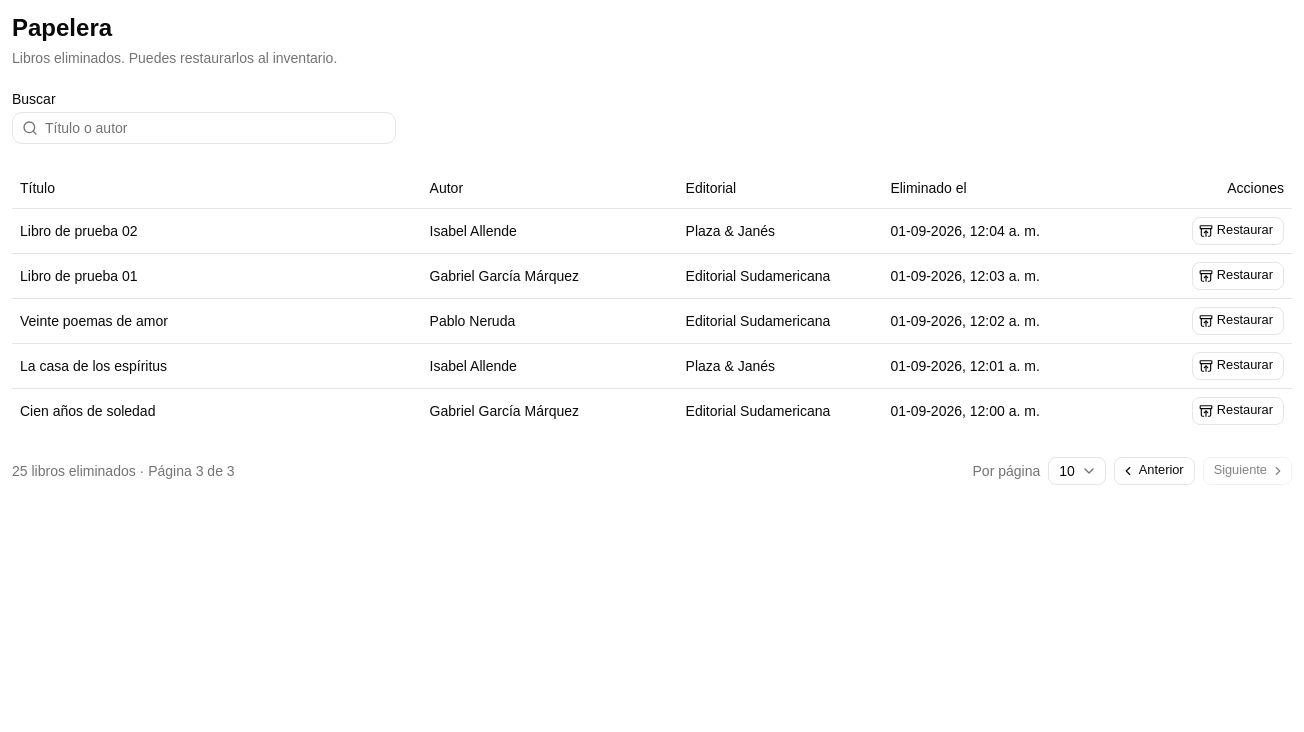
Test case: TrashPage › al restaurar el último libro de la última página vuelve a la página anterior
Expected: the number of rows is 6, [12,168,1292,208]; [12,208,1292,253]; [12,253,1292,298]; [12,298,1292,343]; [12,343,1292,388]; [12,388,1292,432]
Click the button "Restaurar" in the row of "Libro de prueba 02" at (1238, 230), box [1192,216,1284,244]
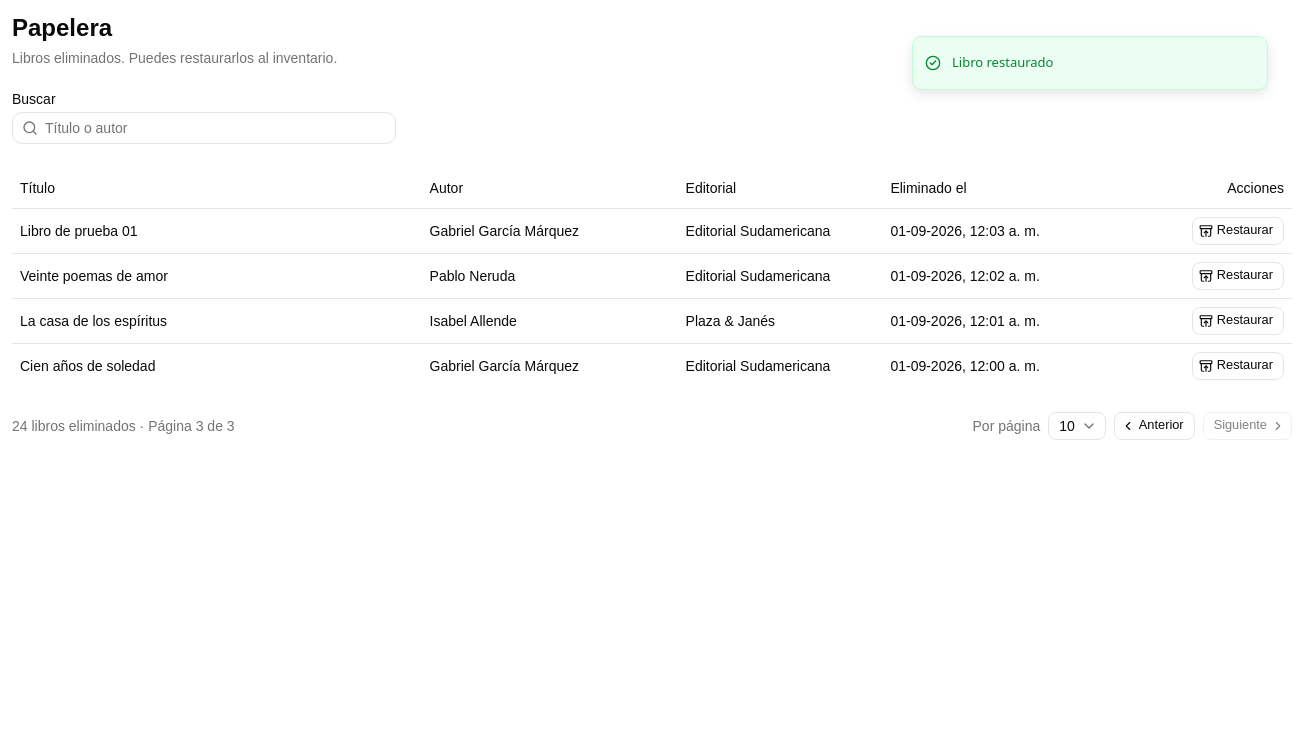
Click the button "Restaurar" in the row of "Libro de prueba 01" at (1238, 230), box [1192,216,1284,244]
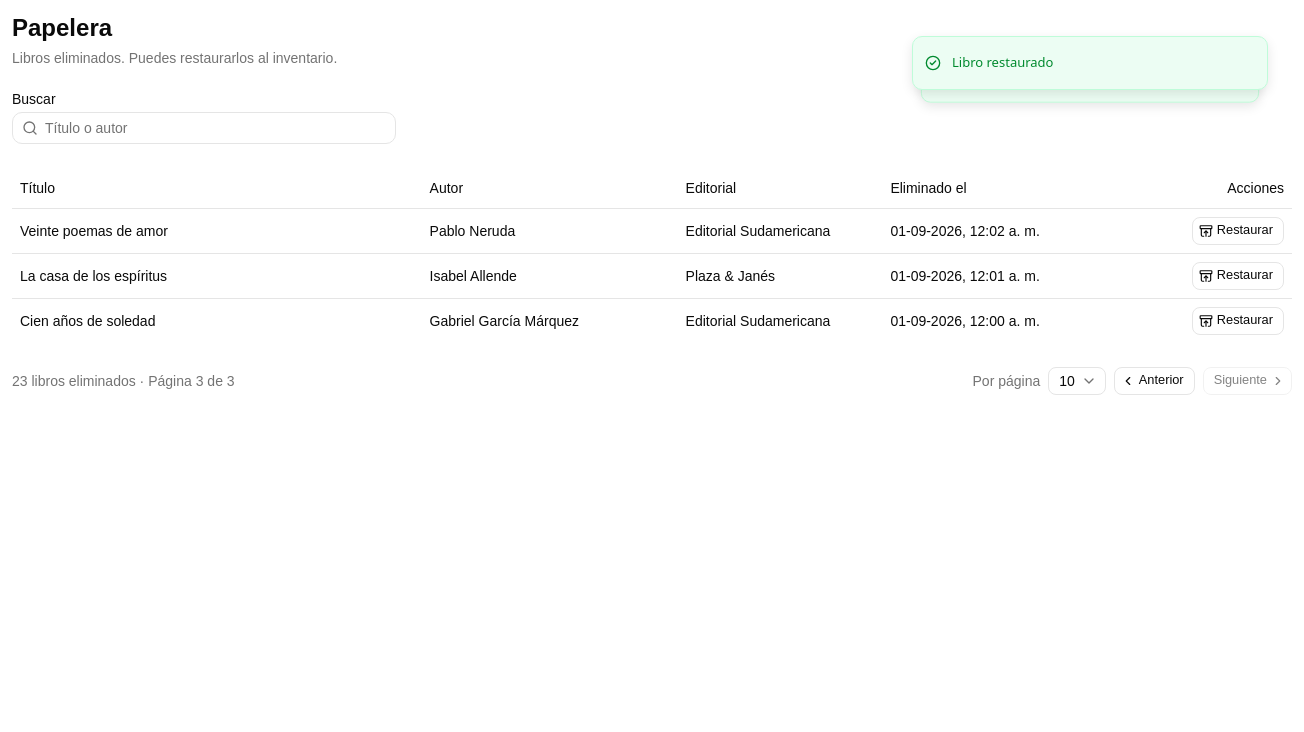
Click the button "Restaurar" in the row of "Veinte poemas de amor" at (1238, 230), box [1192,216,1284,244]
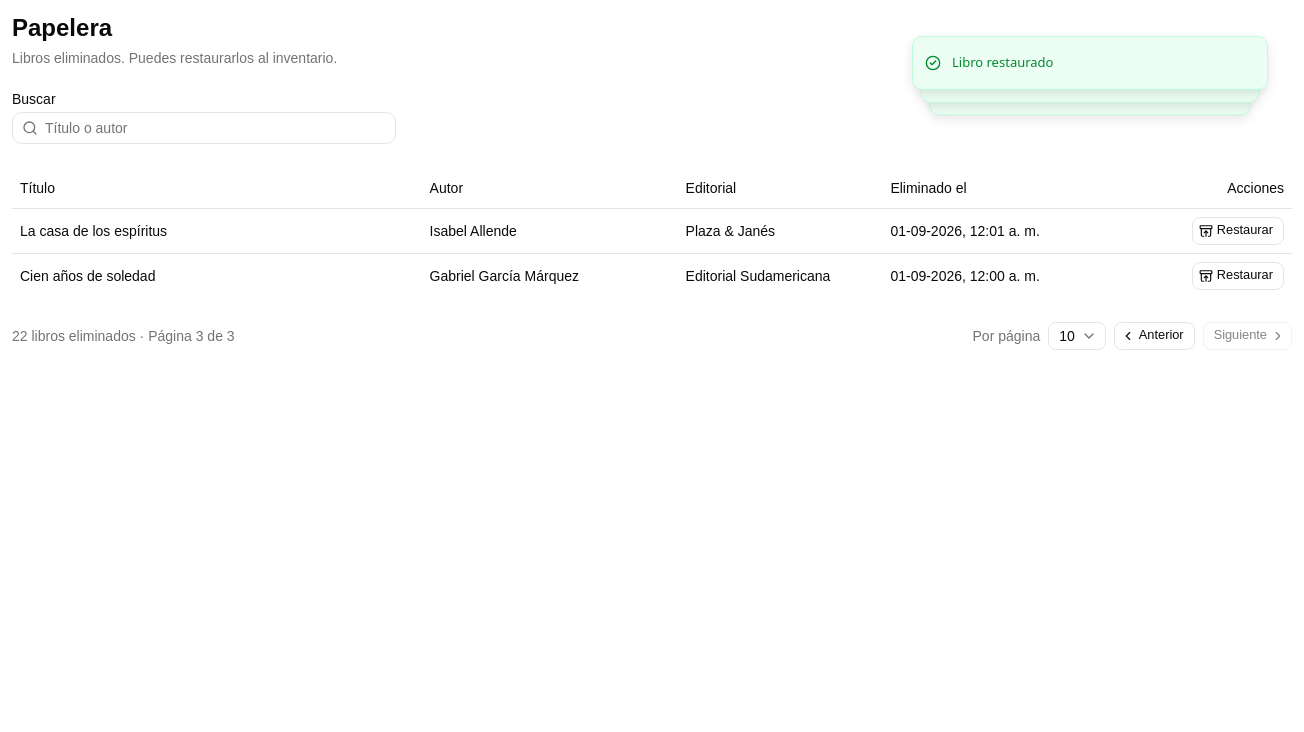
Click the button "Restaurar" in the row of "La casa de los espíritus" at (1238, 230), box [1192,216,1284,244]
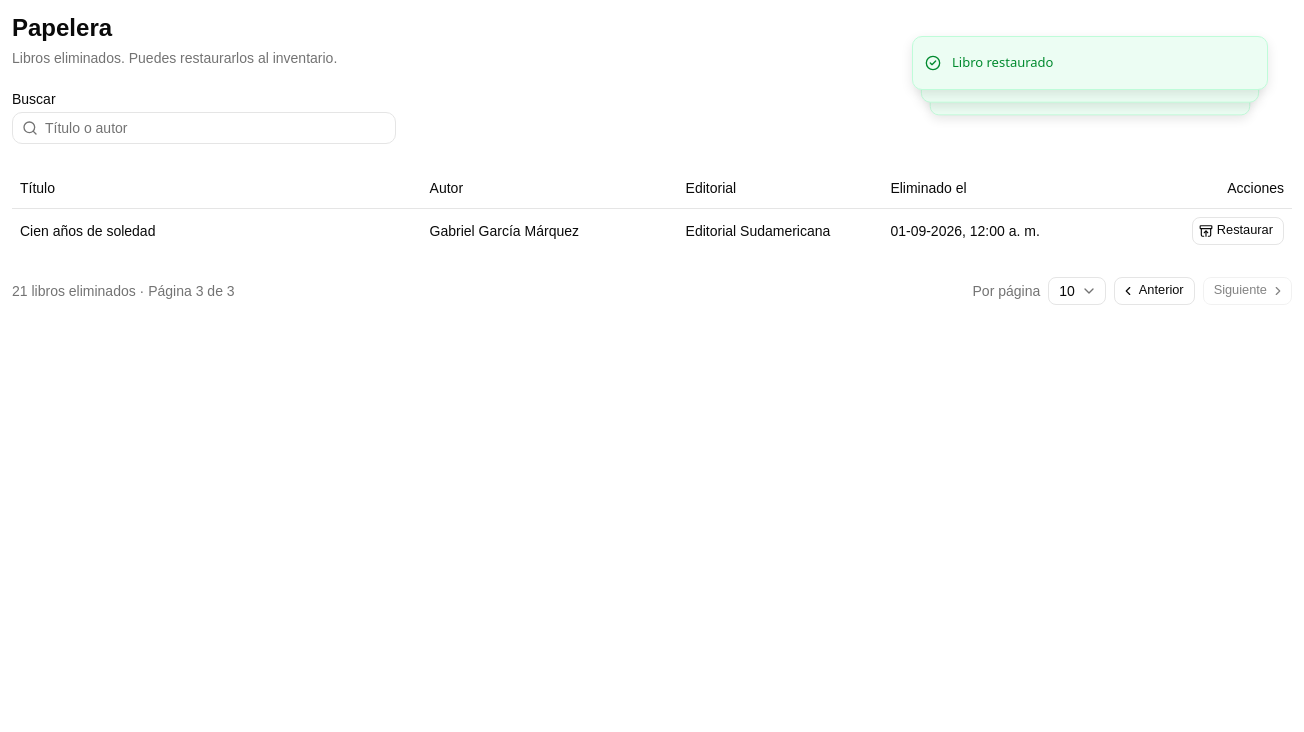
Click the button "Restaurar" at (1238, 230), box [1192,216,1284,244]
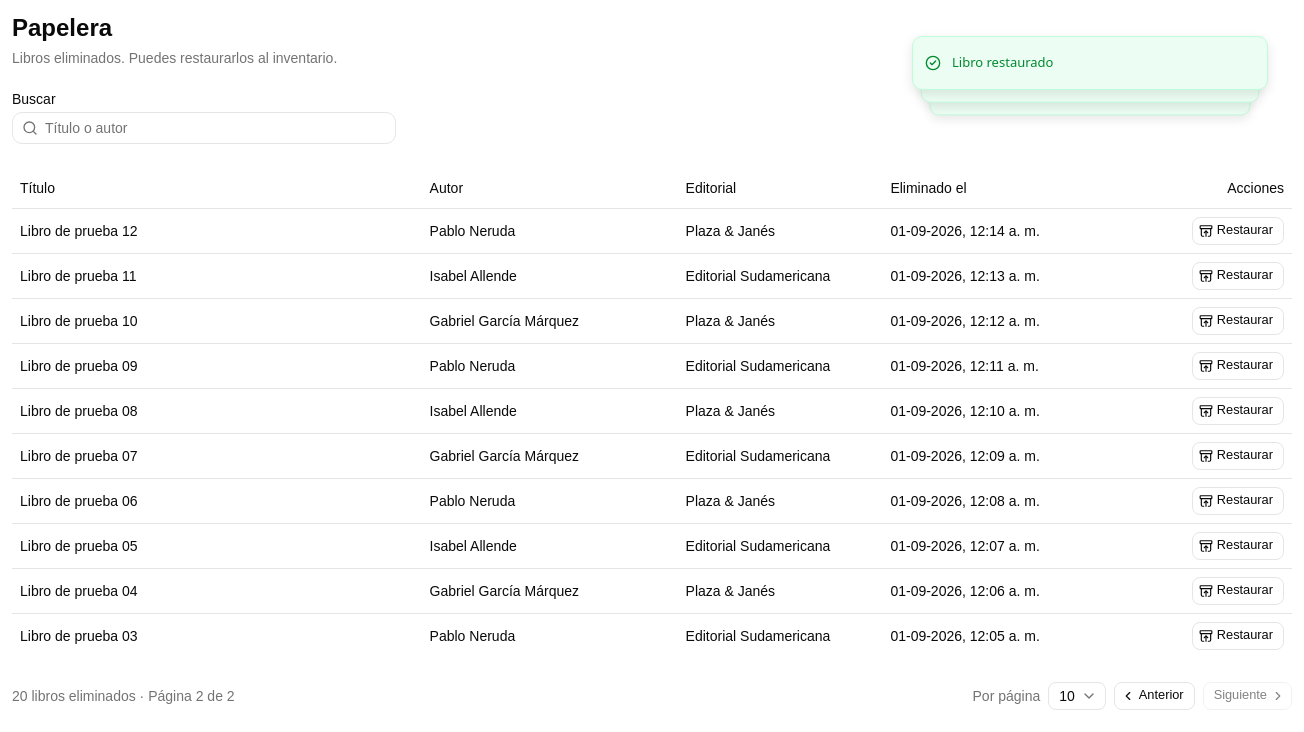
Expected: the text "20 libros eliminados · Página 2 de 2" is shown, [12,686,235,706]
